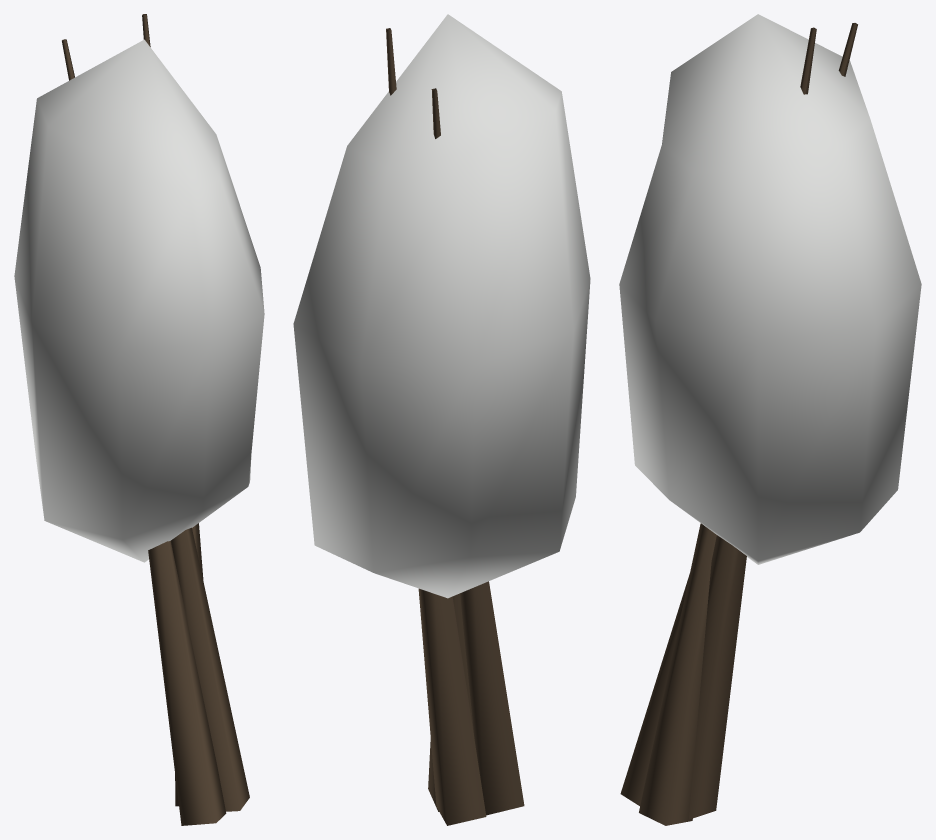
3 views of the same model, side by side, from view 1: azimuth 30°, elevation 25°; view 2: azimuth 150°, elevation 25°; view 3: azimuth 270°, elevation 25° (orthographic). The views are drawn at different scales.
Parts seen in each view (by area): view 1: crown, trunk; view 2: crown, trunk; view 3: crown, trunk.
Boxes of the visible parts, box(x1,y1,x2,y2) form: crown: box(14, 39, 264, 562); trunk: box(62, 14, 249, 825); crown: box(293, 14, 590, 598); trunk: box(386, 28, 524, 825); crown: box(619, 14, 921, 564); trunk: box(620, 23, 857, 825).
Size of the model in its own units: 3.64 by 11.4 by 3.96.
